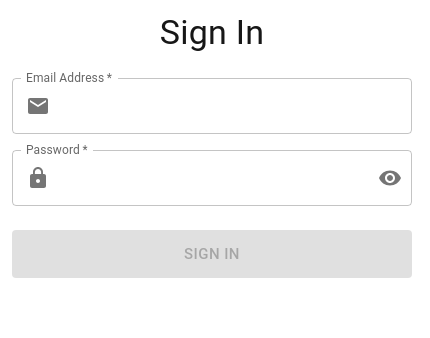
Test case: EmailAuthForm › Form Validation › should show disposable email error
Type "test@mailinator.com" into the field labelled "Email Address" at (235, 106), box [58,78,412,134]
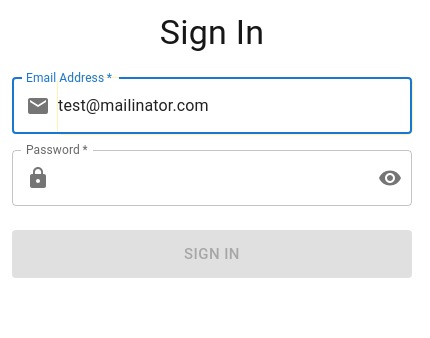
Press Tab
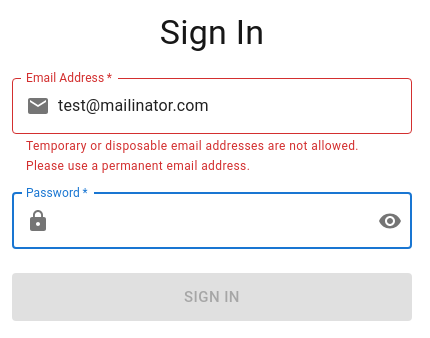
expect the text "Temporary or disposable email addresses are not allowed. Please use a permanent email address." is shown: met, box [26,139,359,173]
